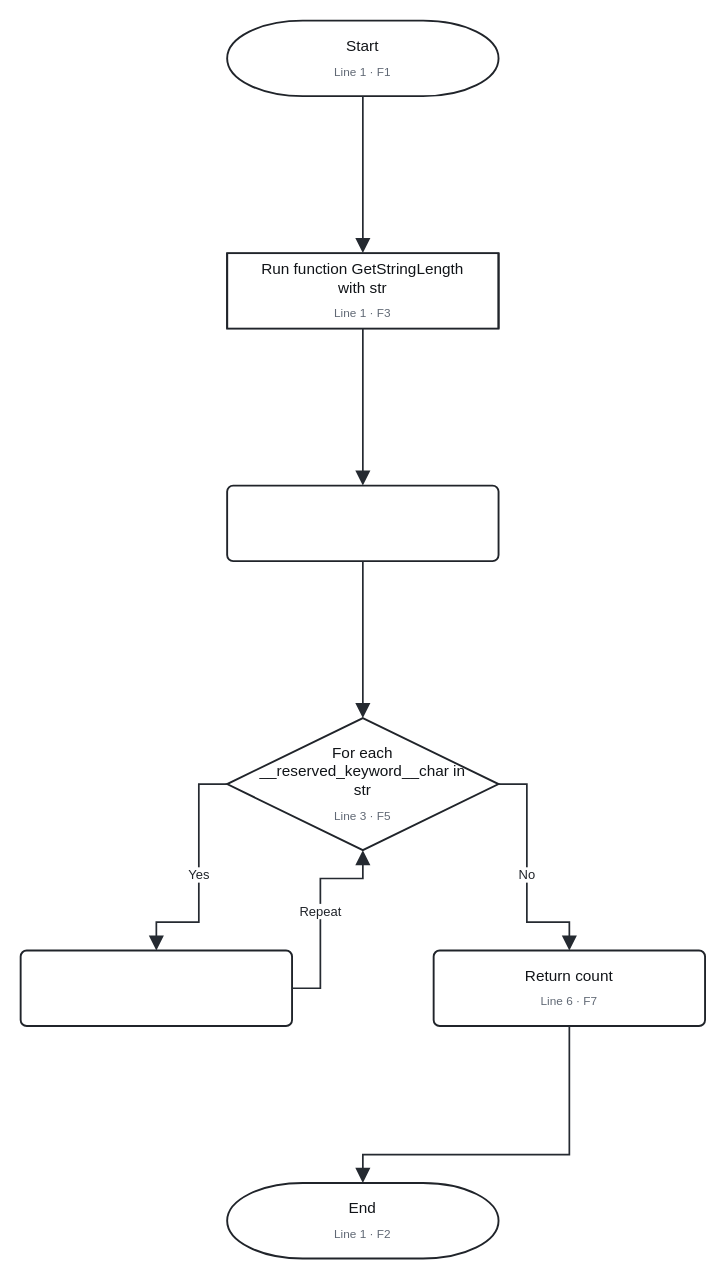
This 727x1280 diagram has some shape labels left out. Each missing label, with the box of its shape:
Set count to 0 Line 2 · F4: (226, 484, 499, 561)
Set count to count plus 1 Line 4 · F6: (19, 949, 292, 1026)
